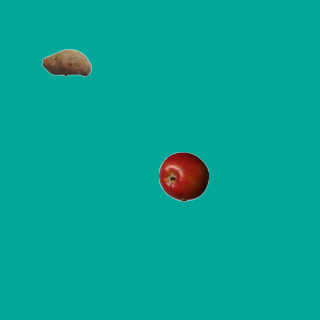Apple Braeburn: (158, 151, 208, 201)
Potato Sweet: (41, 37, 91, 87)
